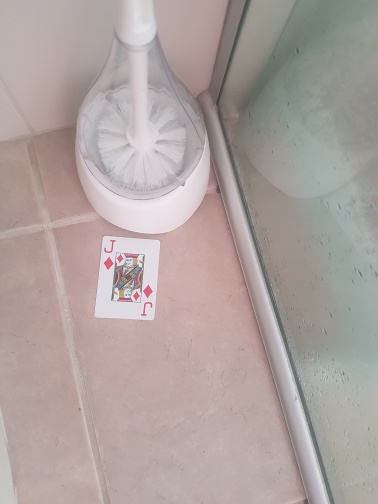jack: (94, 236, 160, 323)
